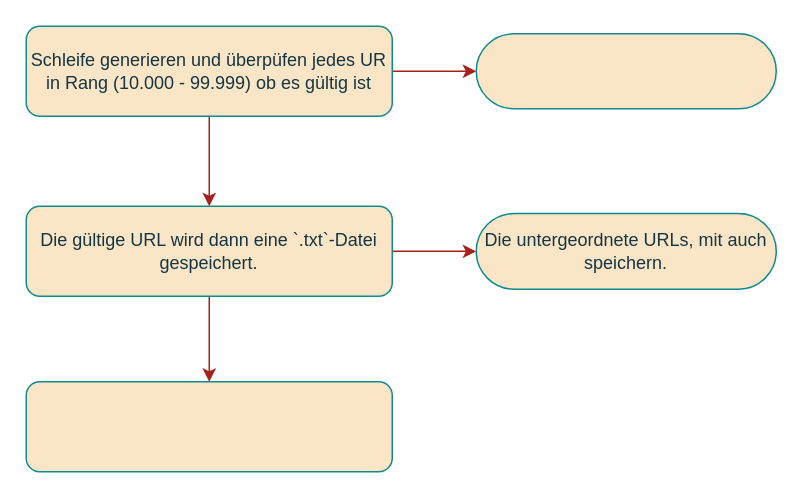
This 803x498 diagram has some shape labels left out. Here are the shapes that lost their labels. From the top down, the centre of each, then its label:
pixel 625 70: "https://datenbank2.deutscher-nachhaltigkeitskodex.de/"
pixel 208 426: Inexieren
